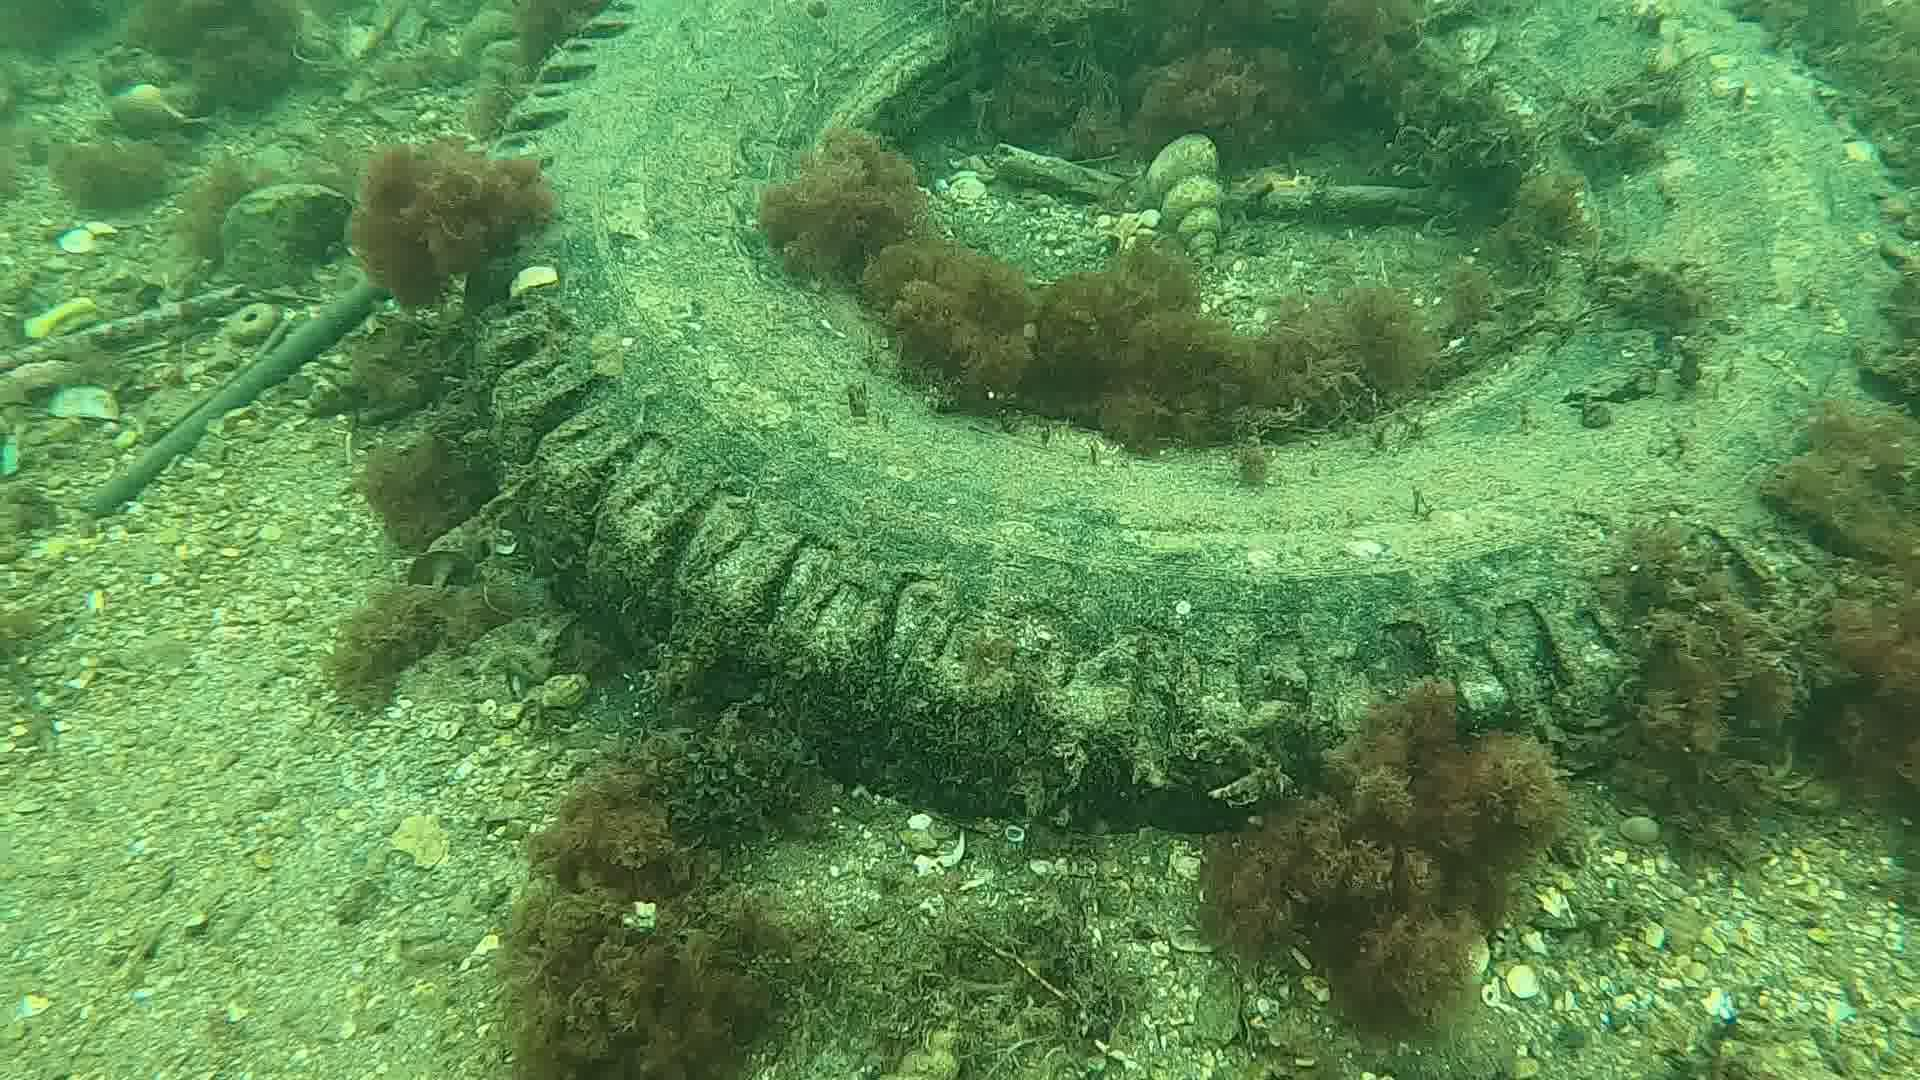tire: (467, 0, 1920, 831)
